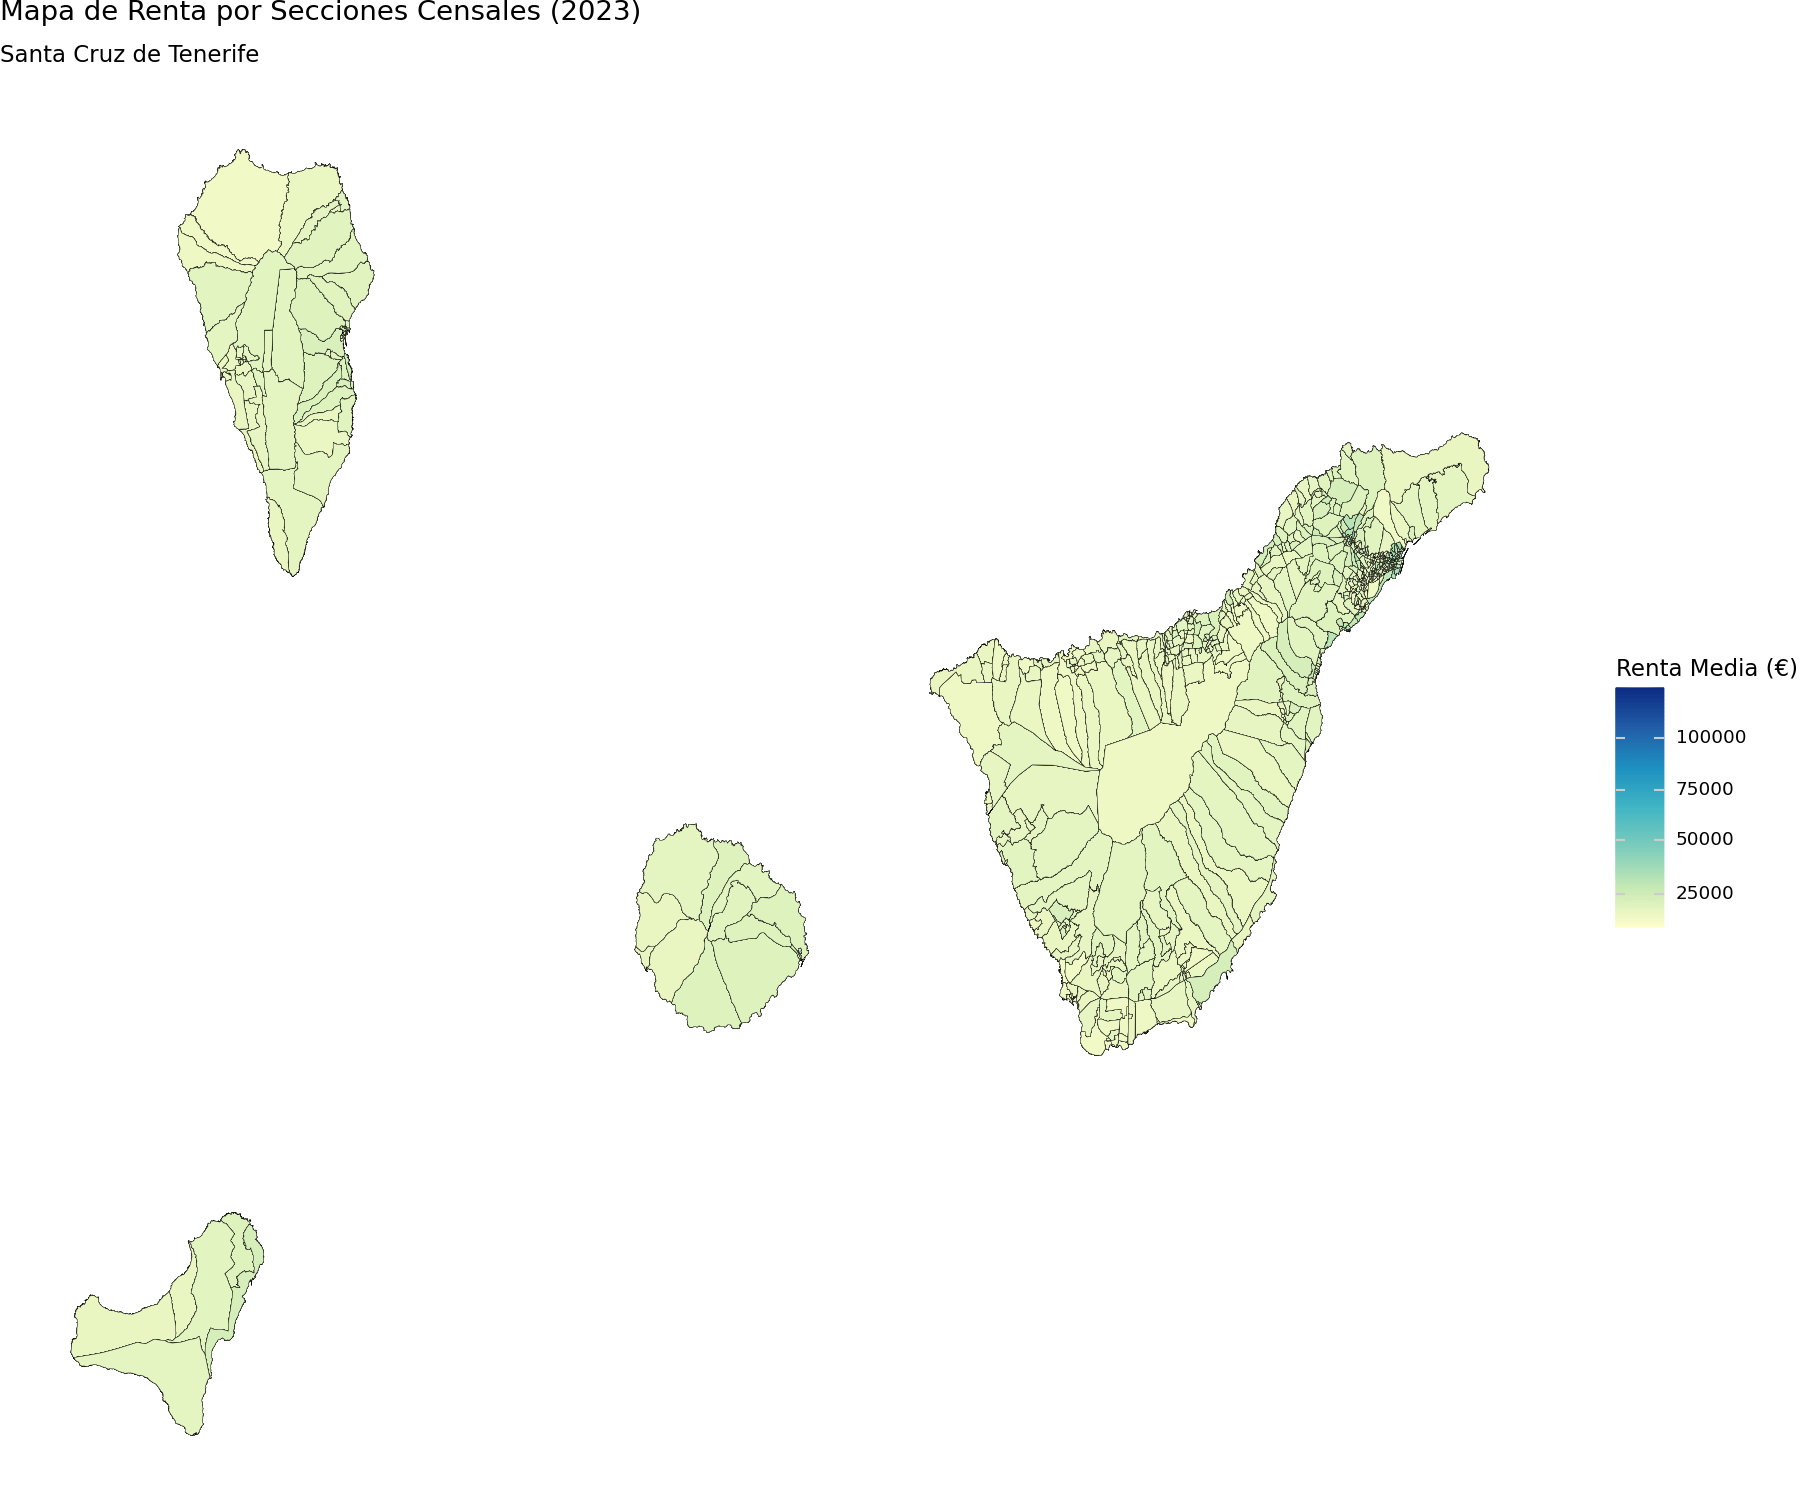

The dashboard page shown, as its layout file describes it:
{"tool":"powerbi","page":{"name":"Página 1","canvas":[1280,720],"ordinal":0},"visuals":[{"type":"shapeMap","fields":{"Category":["distribucion-renta-canarias.TERRITORIO_CODE"],"Value":["Sum(distribucion-renta-canarias.OBS_VALUE)"]},"box":[127.1,127.1,854.4,416.5],"z":0},{"type":"slicer","fields":{"Values":["distribucion-renta-canarias.TIME_PERIOD#es"]},"box":[127,553,854,167],"z":1}]}

Visuals, with their boxes on the page's 1280x720 design canvas (x1, y1, x2, y2). These are canvas units, not pixel positions in the 1800x1500 screenshot, which may show the page scaled, cropped or inside an application window:
shapeMap - distribucion-renta-canarias.TERRITORIO_CODE x Sum(distribucion-renta-canarias.OBS_VALUE): bbox=[127, 127, 982, 544]
slicer - distribucion-renta-canarias.TIME_PERIOD#es: bbox=[127, 553, 981, 720]
